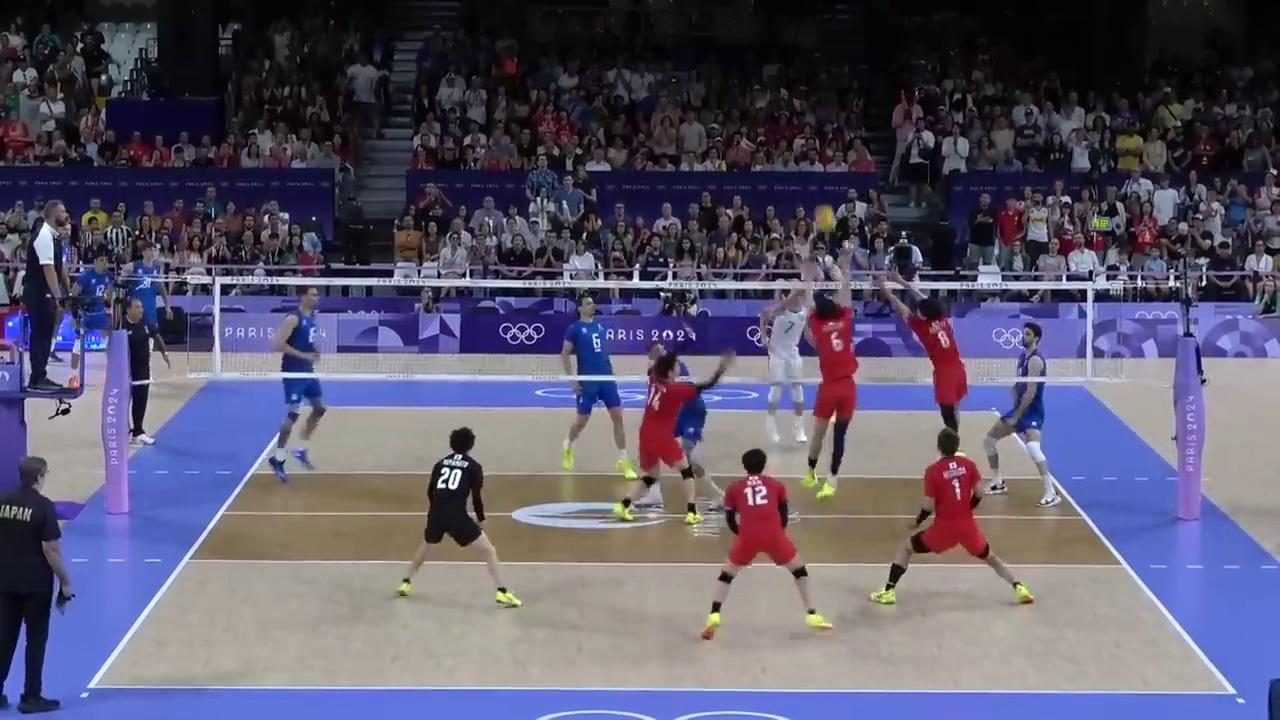ball: (813, 202, 833, 232)
